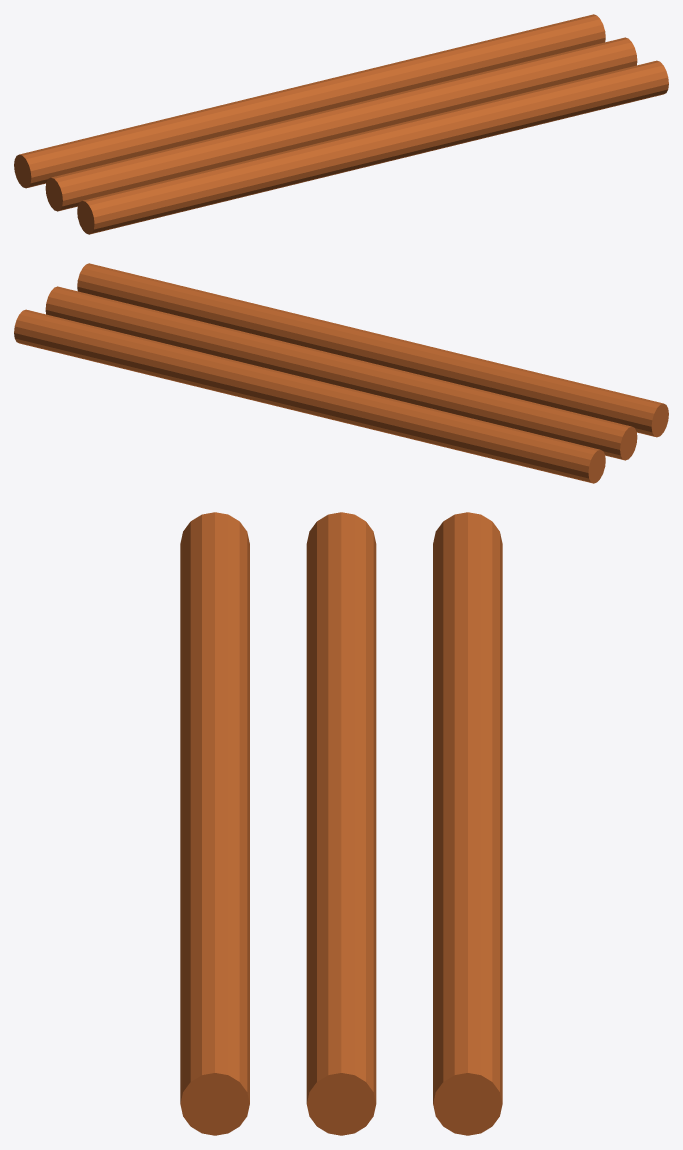
File: 134_L110_CPU_HeatpipeAssembly.fbx
3 views of the same model, one above another, from view 1: azimuth 30°, elevation 25°; view 2: azimuth 150°, elevation 25°; view 3: azimuth 270°, elevation 25° (orthographic). The views are drawn at different scales.
Visible parts, largest first — view 1: L110_CPU_HeatpipeAssembly_COPPER; view 2: L110_CPU_HeatpipeAssembly_COPPER; view 3: L110_CPU_HeatpipeAssembly_COPPER.
Part boxes in pixels (x1=…): L110_CPU_HeatpipeAssembly_COPPER: x1=14, y1=14, x2=668, y2=234; L110_CPU_HeatpipeAssembly_COPPER: x1=14, y1=263, x2=668, y2=483; L110_CPU_HeatpipeAssembly_COPPER: x1=180, y1=512, x2=502, y2=1135.
Bounding box in the file's own units: 63 × 15.3 × 3.3.
